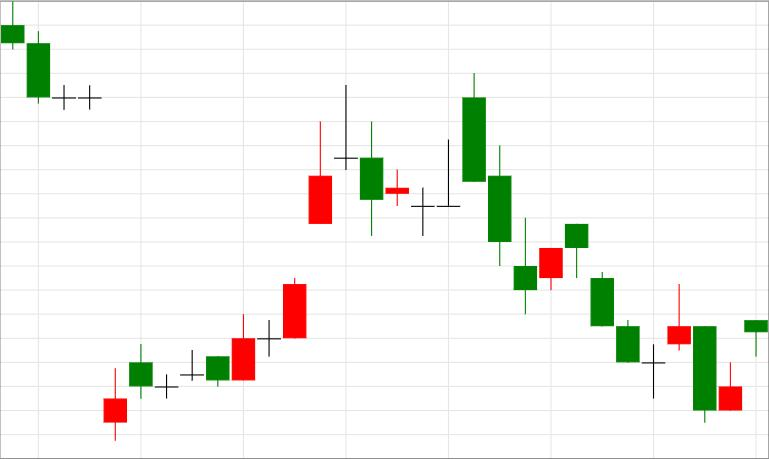evening_star_fall: (104, 85, 383, 441)
